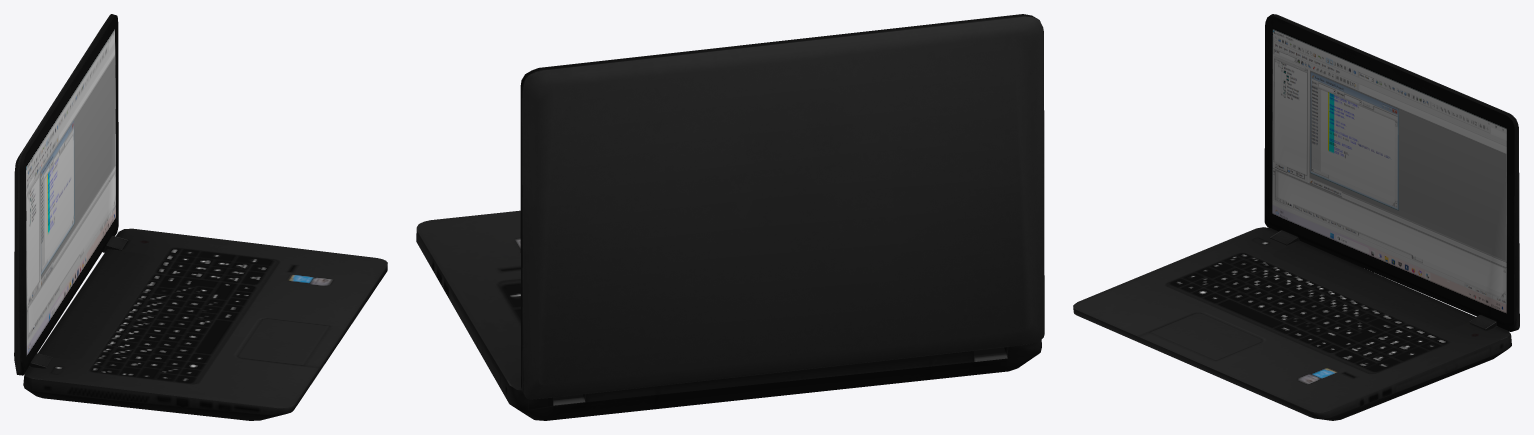
Rendered from NewWebPortatile.gltf.
3 renders of one model, left to right at view 1: azimuth 30°, elevation 25°; view 2: azimuth 150°, elevation 25°; view 3: azimuth 270°, elevation 25°, orthographic. The views are drawn at different scales.
Parts seen in each view (by area): view 1: Copia Tastiera Laptop.001; view 2: Copia Tastiera Laptop.001; view 3: Copia Tastiera Laptop.001.
Boxes of the visible parts, <box> form: Copia Tastiera Laptop.001: <box>14,14,387,420</box>; Copia Tastiera Laptop.001: <box>416,14,1044,420</box>; Copia Tastiera Laptop.001: <box>1073,14,1519,420</box>.
Size of the model in its own units: 1.21 by 0.712 by 1.21.
2 materials, 2 textured.
